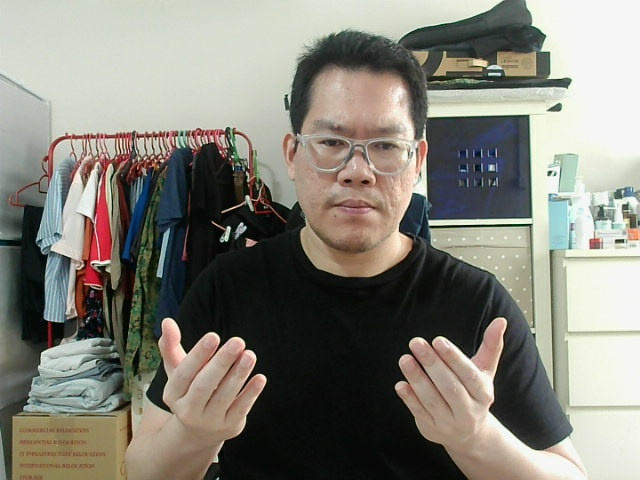want: (402, 321, 498, 436)
